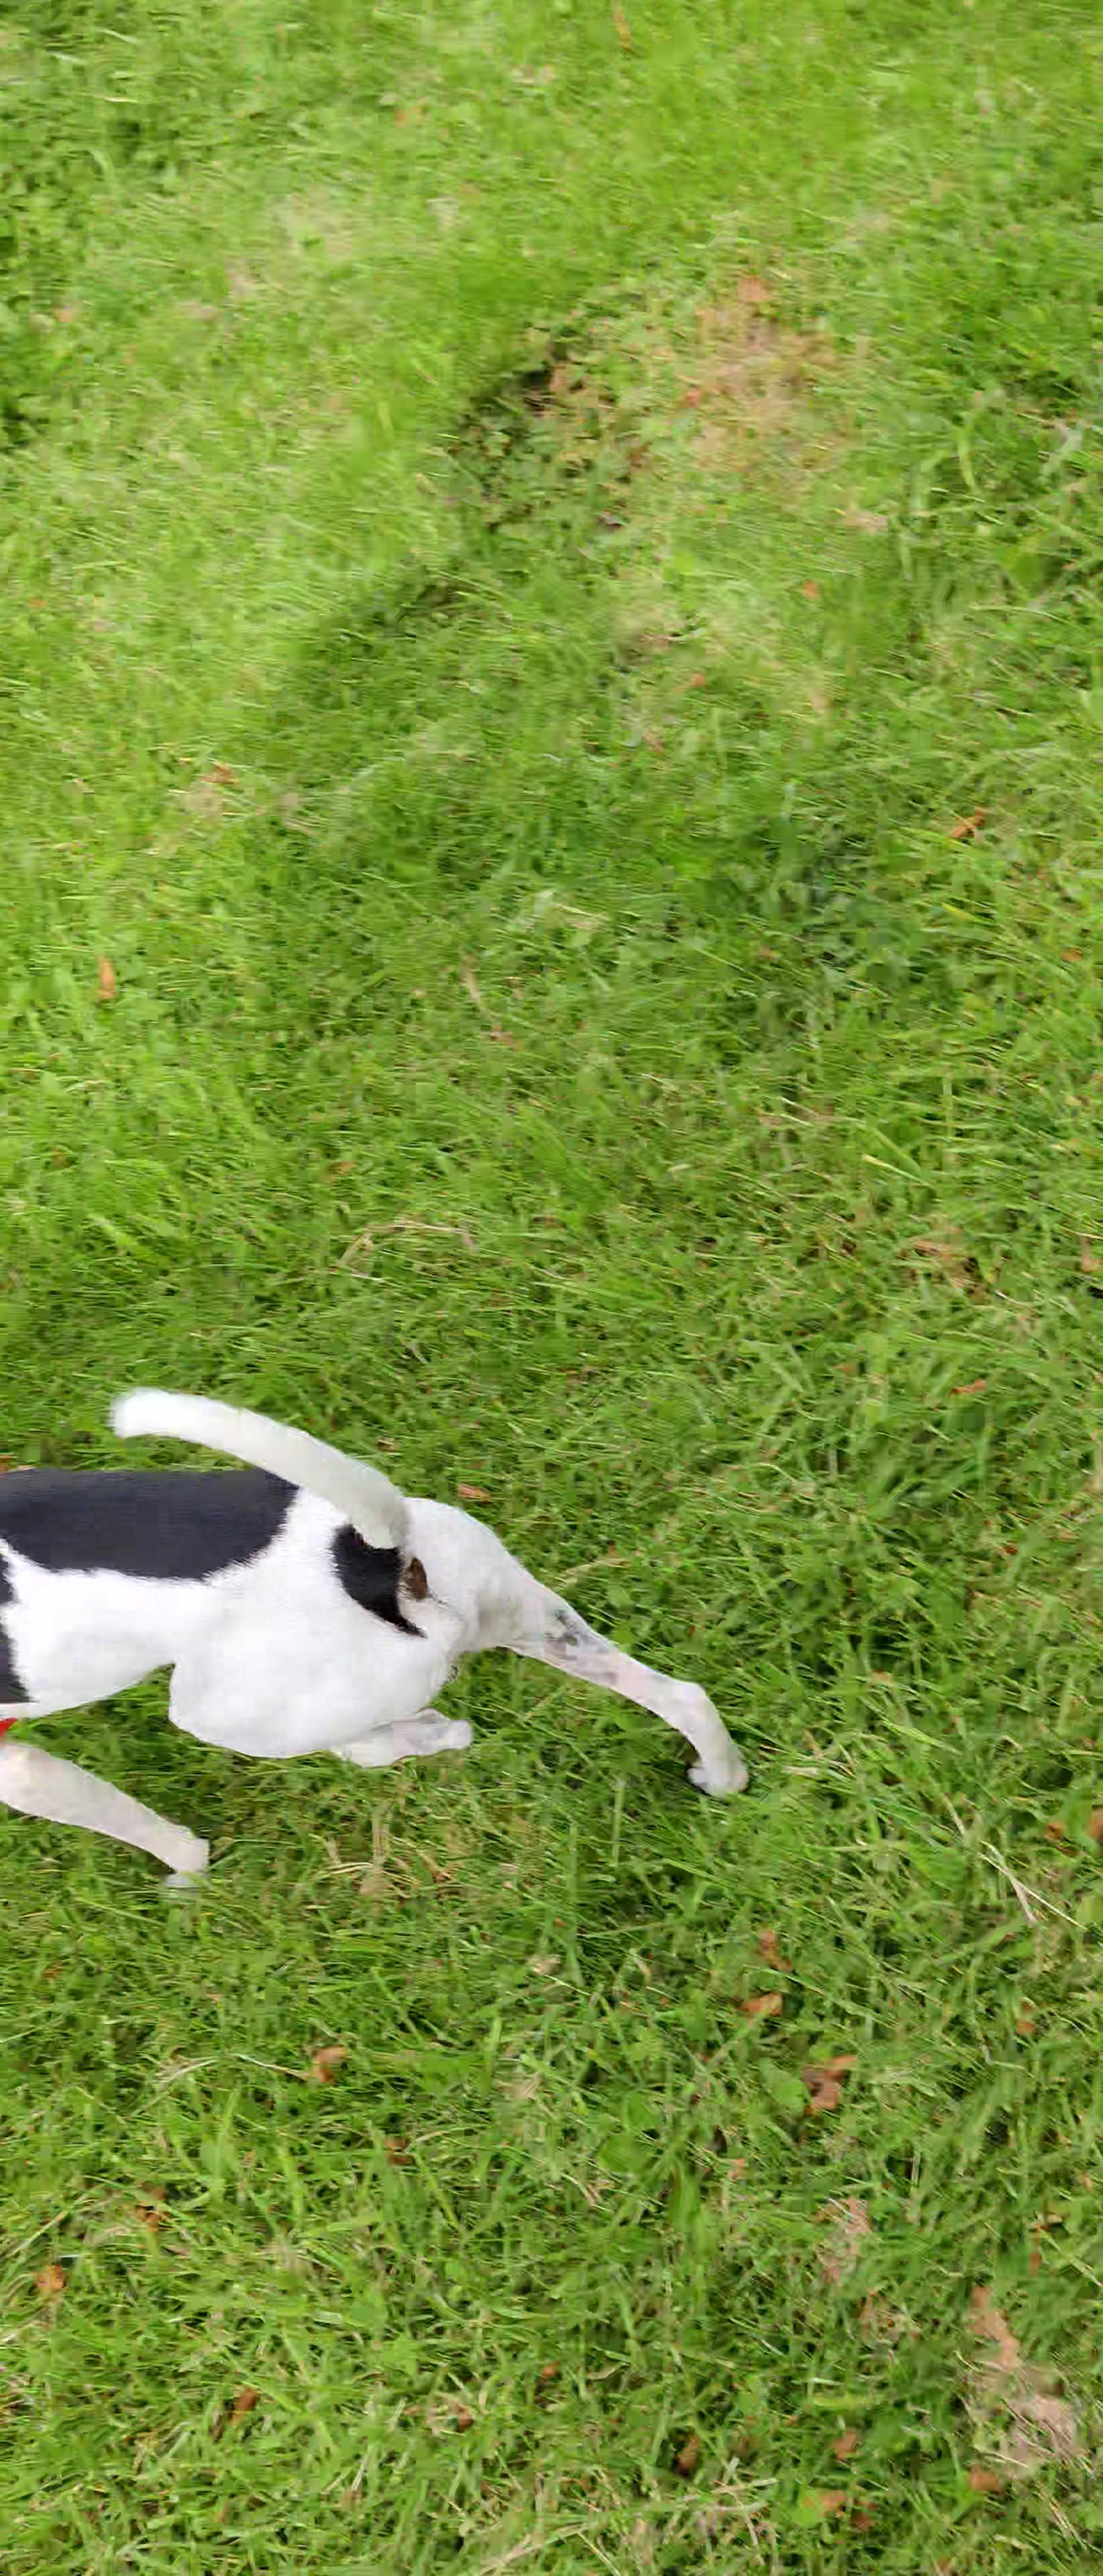Dog: (0, 1375, 769, 1891)
